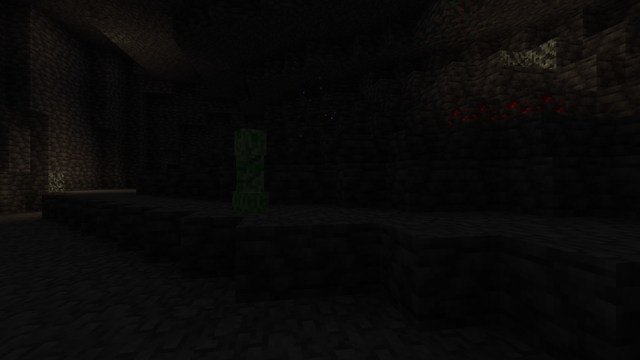creepers: (232, 124, 264, 211)
